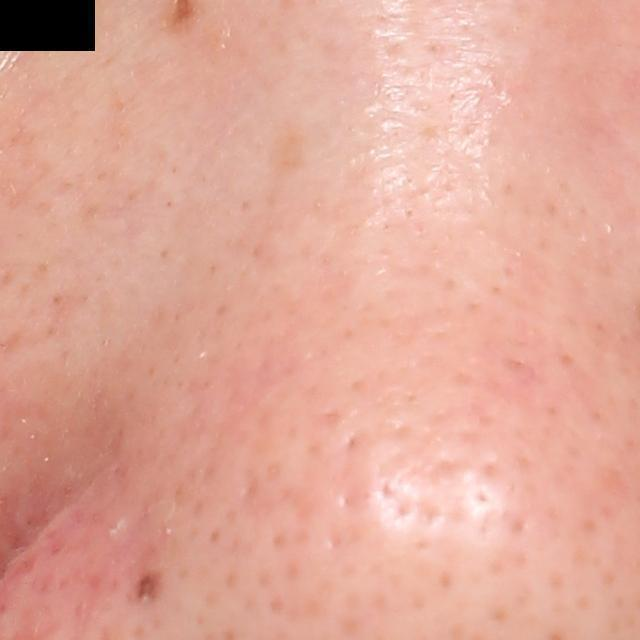nevus: (130, 572, 164, 608)
